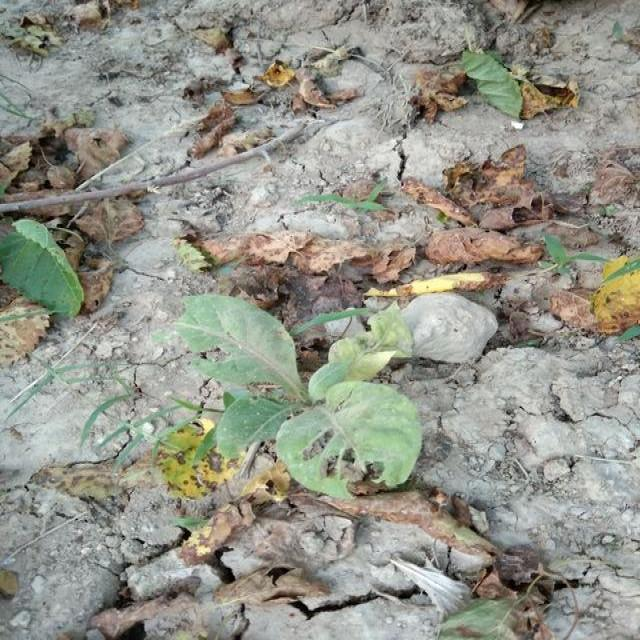crop: (182, 293, 430, 497)
